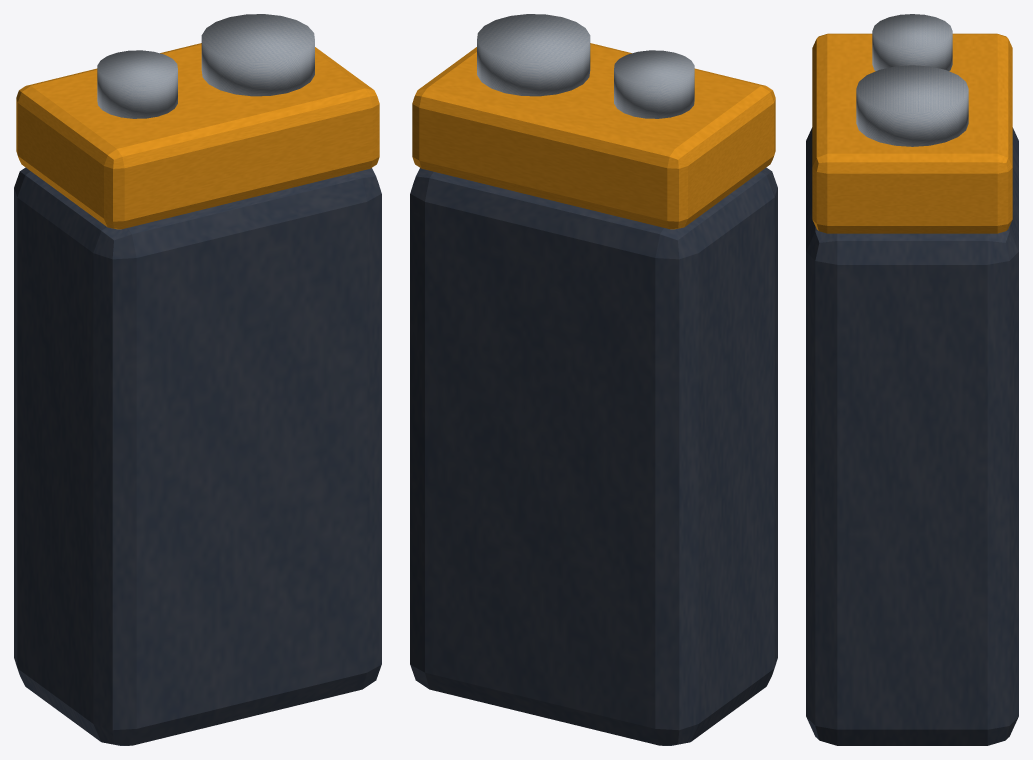
File: Battery9V.obj
The picture shows the model from 3 angles, left to right: view 1: azimuth 30°, elevation 25°; view 2: azimuth 150°, elevation 25°; view 3: azimuth 270°, elevation 25°; orthographic projection.
Parts seen in each view (by area): view 1: Battery, Copper_Top, Negative, Positive; view 2: Battery, Copper_Top, Negative, Positive; view 3: Battery, Copper_Top, Negative, Positive.
Part boxes in pixels (box(x1,y1,x2,y2)): Battery: box(14, 167, 381, 745); Copper_Top: box(16, 43, 379, 229); Negative: box(201, 14, 314, 96); Positive: box(97, 50, 177, 118); Battery: box(410, 167, 777, 745); Copper_Top: box(412, 43, 775, 229); Negative: box(477, 14, 590, 96); Positive: box(614, 50, 694, 118); Battery: box(806, 127, 1018, 745); Copper_Top: box(812, 33, 1012, 233); Negative: box(856, 65, 968, 146); Positive: box(872, 14, 952, 70).
Size of the model in its own units: 0.26 by 0.555 by 0.17.
